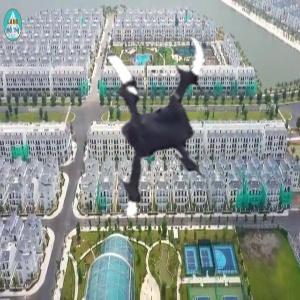drone: (46, 19, 246, 219)
